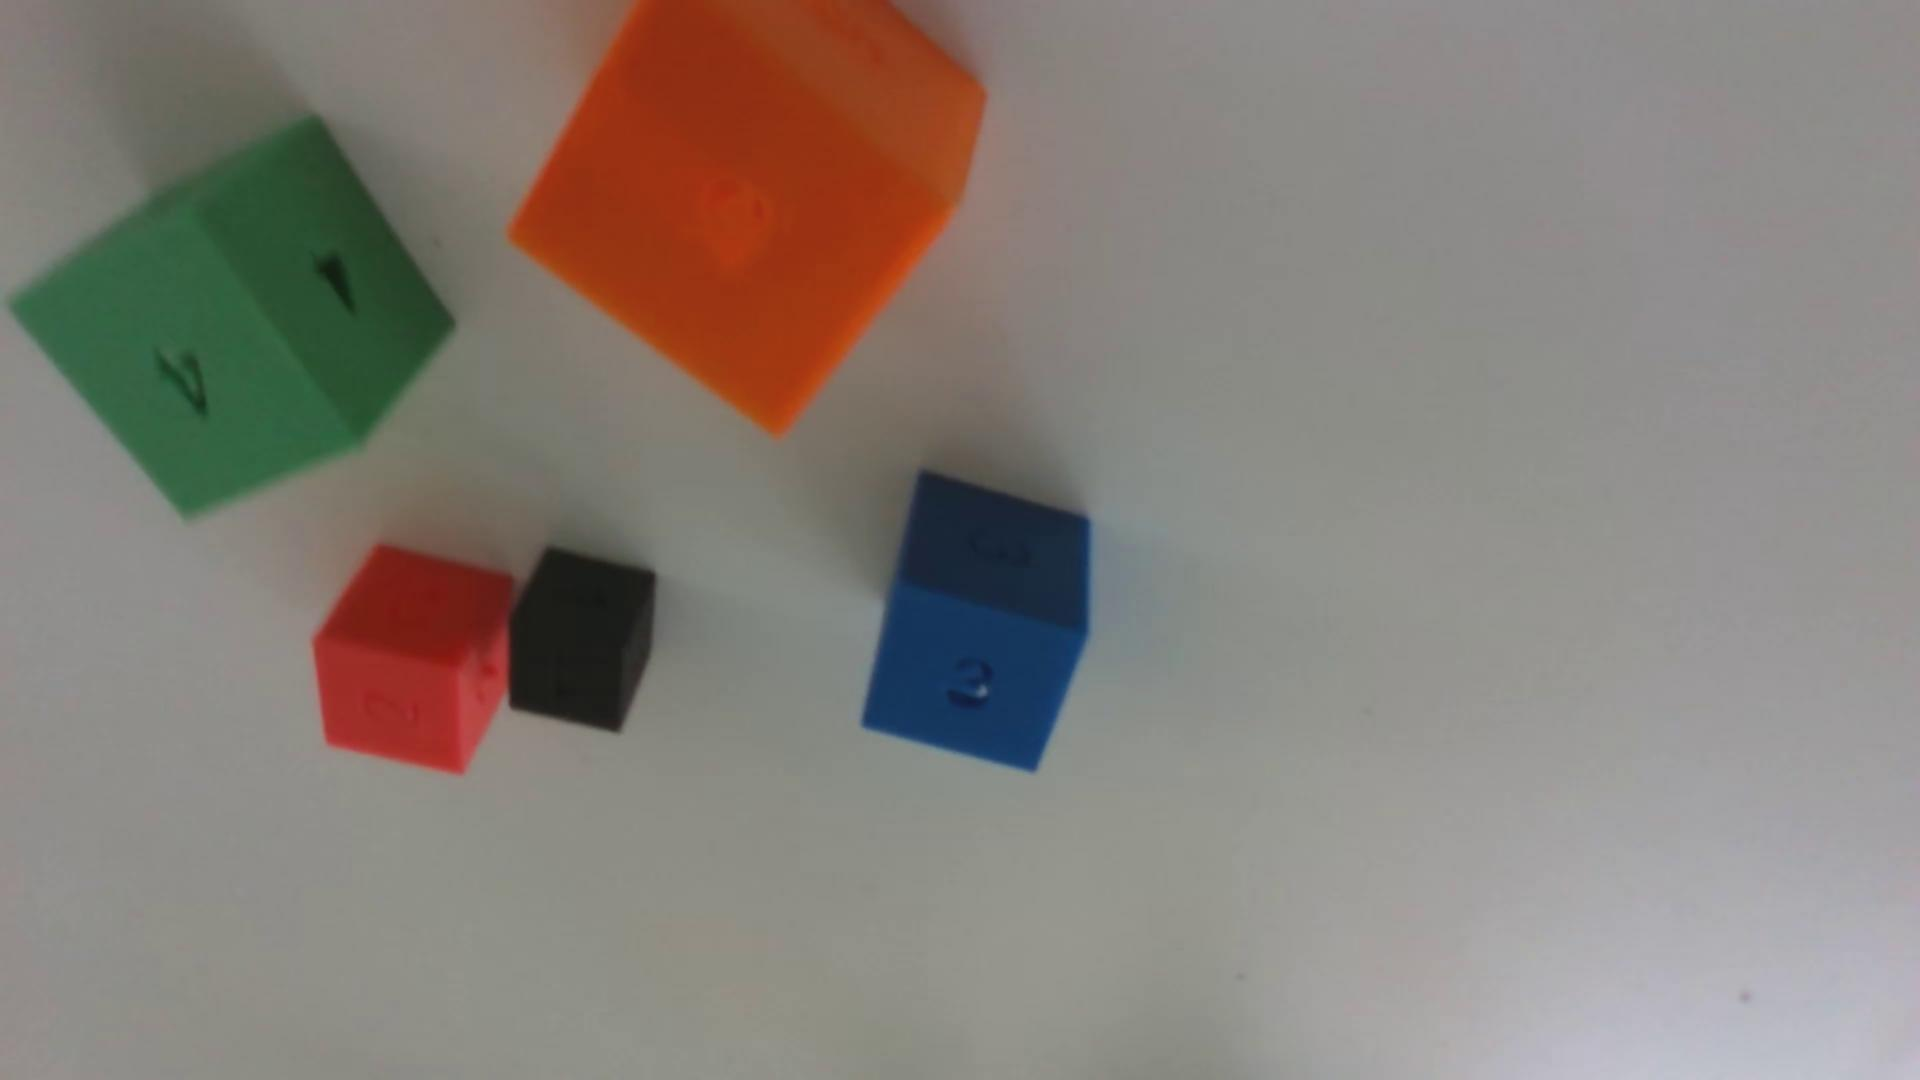black: (508, 546, 657, 731)
blue: (862, 471, 1091, 770)
green: (11, 117, 454, 516)
orange: (510, 0, 985, 433)
red: (313, 545, 516, 773)
